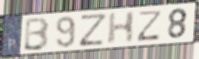8: (167, 7, 189, 40)
9: (54, 15, 77, 50)
B: (22, 16, 51, 52)
H: (106, 10, 137, 47)
Z: (78, 12, 109, 48), (135, 9, 164, 43)
